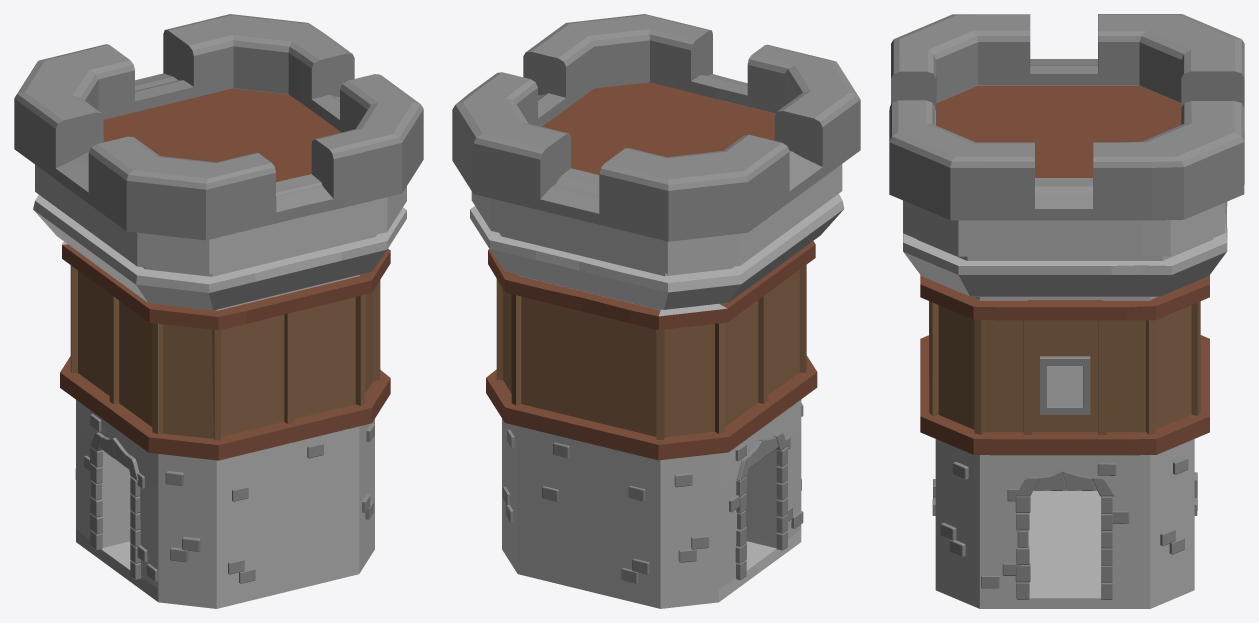
Rendered from castle-main.fbx.
The picture shows the model from 3 angles, left to right: view 1: azimuth 30°, elevation 25°; view 2: azimuth 150°, elevation 25°; view 3: azimuth 270°, elevation 25°; orthographic projection. The views are drawn at different scales.
Visible parts, largest first — view 1: Cube.040; view 2: Cube.040; view 3: Cube.040.
Part boxes in pixels (x1,y1,x2,y2): Cube.040: [14, 14, 423, 608]; Cube.040: [452, 14, 860, 608]; Cube.040: [889, 14, 1244, 608].
Size of the model in its own units: 1252 by 1813 by 1253.
